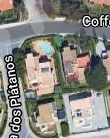pool: (38, 42, 53, 55)
